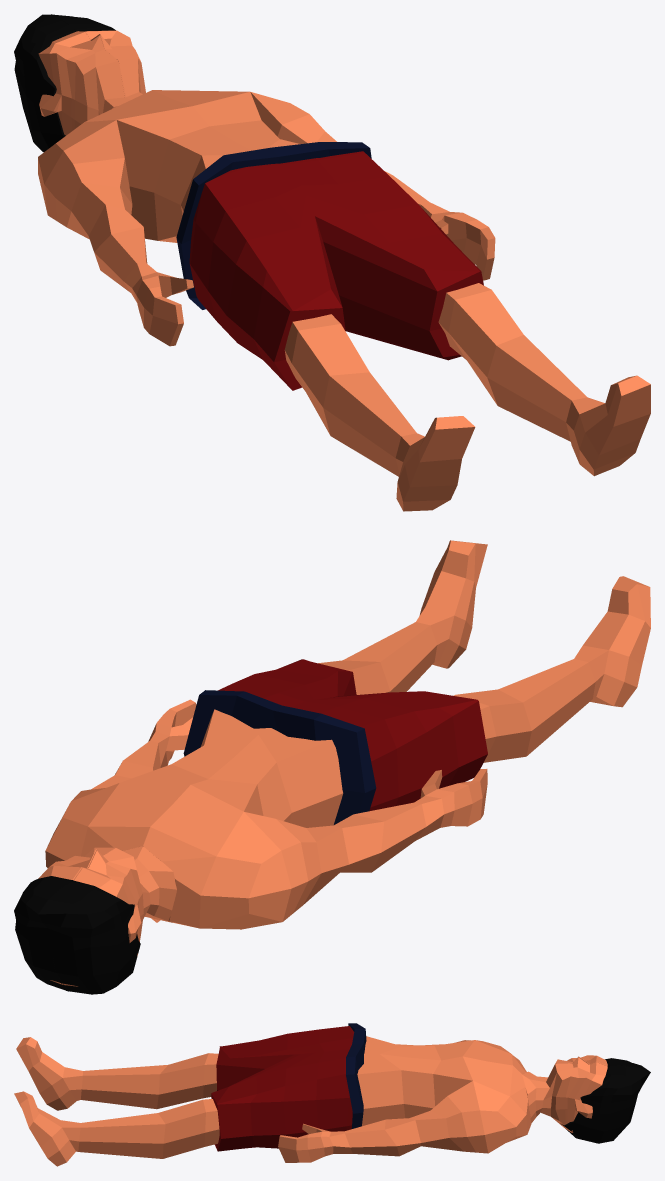
Rendered from vent.obj.
3 renders of one model, top to bottom at view 1: azimuth 30°, elevation 25°; view 2: azimuth 150°, elevation 25°; view 3: azimuth 270°, elevation 25°, orthographic. The views are drawn at different scales.
Parts seen in each view (by area): view 1: Cube, Cube.003_Cube.004, Cube.001, Cube.002, Cube.004_Cube.007; view 2: Cube, Cube.003_Cube.004, Cube.002, Cube.004_Cube.007, Cube.001; view 3: Cube, Cube.003_Cube.004, Cube.001, Cube.002, Cube.004_Cube.007.
Boxes of the visible parts, x1=… form: Cube: x1=38, y1=90, x2=650, y2=511; Cube.003_Cube.004: x1=189, y1=151, x2=483, y2=390; Cube.001: x1=38, y1=30, x2=145, y2=135; Cube.002: x1=14, y1=14, x2=115, y2=152; Cube.004_Cube.007: x1=176, y1=142, x2=371, y2=309; Cube: x1=45, y1=540, x2=650, y2=929; Cube.003_Cube.004: x1=218, y1=659, x2=487, y2=811; Cube.002: x1=14, y1=876, x2=140, y2=994; Cube.004_Cube.007: x1=183, y1=690, x2=376, y2=824; Cube.001: x1=38, y1=846, x2=176, y2=986; Cube: x1=14, y1=1036, x2=531, y2=1166; Cube.003_Cube.004: x1=211, y1=1026, x2=354, y2=1151; Cube.001: x1=522, y1=1055, x2=607, y2=1132; Cube.002: x1=560, y1=1058, x2=650, y2=1143; Cube.004_Cube.007: x1=346, y1=1023, x2=366, y2=1128.
Size of the model in its own units: 2.1 by 0.9675 by 5.72.
